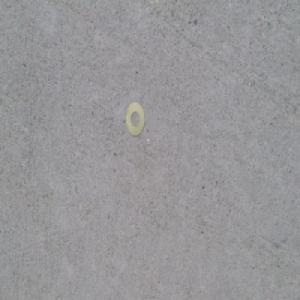Washer: (125, 103, 144, 139)
